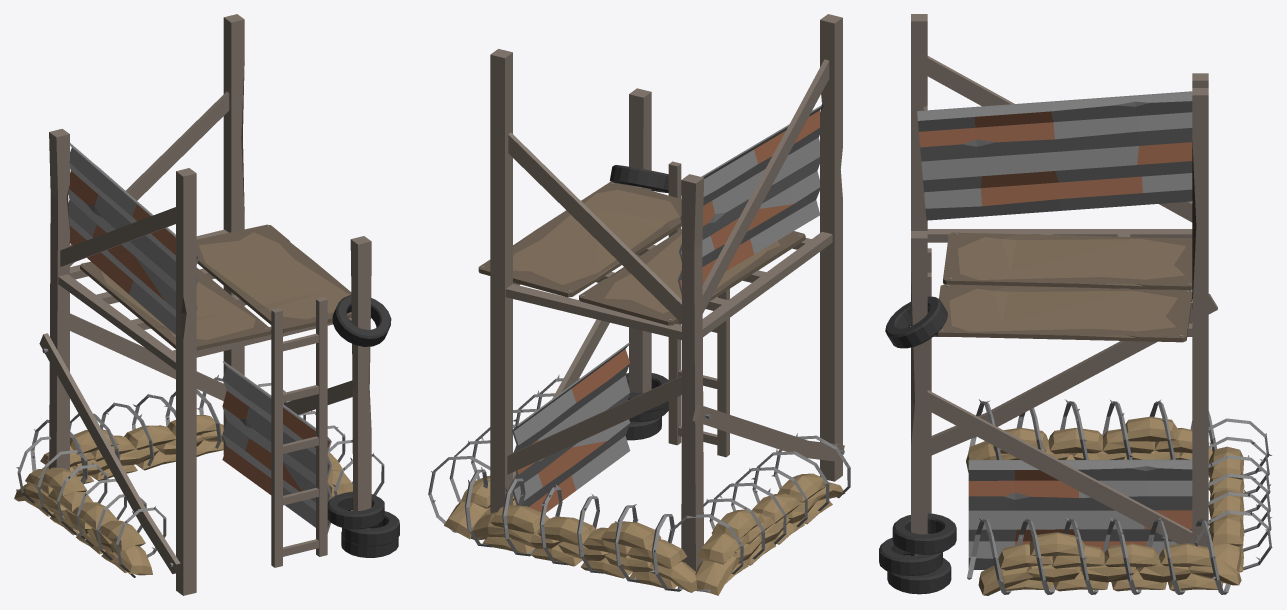
File: model_lookout_tower.fbx
3 renders of one model, left to right at view 1: azimuth 30°, elevation 25°; view 2: azimuth 150°, elevation 25°; view 3: azimuth 270°, elevation 25°, orthographic. The views are drawn at different scales.
Parts seen in each view (by area): view 1: model_lookout_tower; view 2: model_lookout_tower; view 3: model_lookout_tower.
Part boxes in pixels (<box>): model_lookout_tower: <box>14,14,399,595</box>; model_lookout_tower: <box>428,14,850,595</box>; model_lookout_tower: <box>879,14,1272,595</box>.
Bounding box in the file's own units: 528 × 785 × 576.
1 material, 1 textured.
